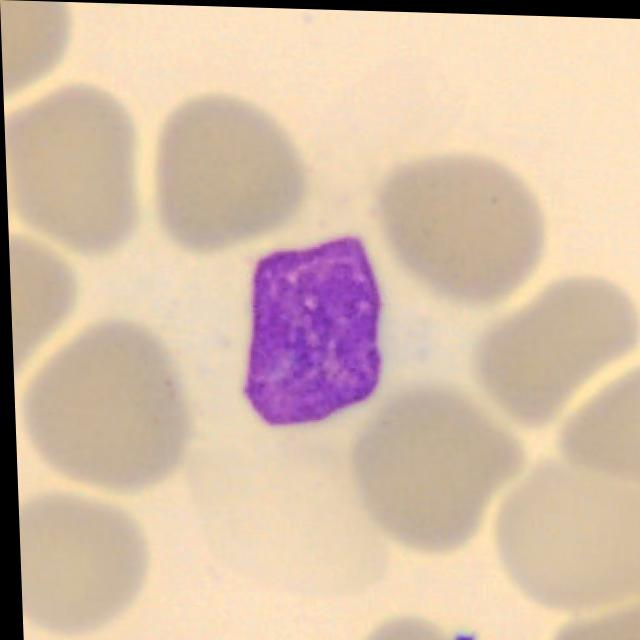Restos celulares: (240, 234, 380, 428)
